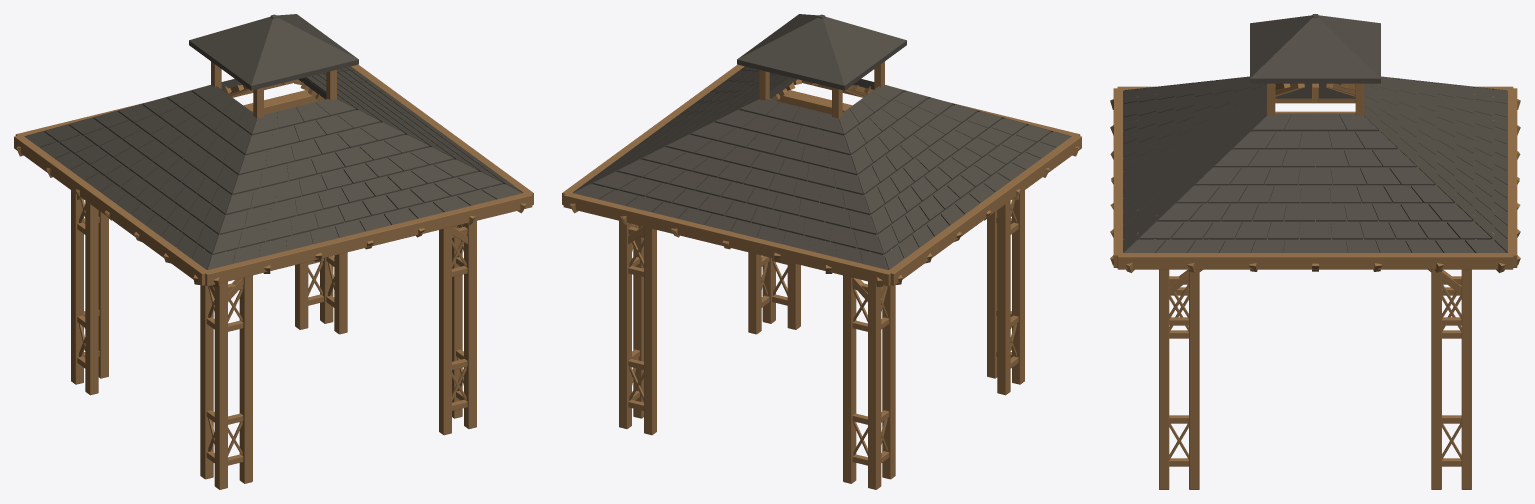
Rendered from A-NEW-20261026-GARDEN-GAZEBO-001_LOD0_R2.glb.
3 renders of one model, left to right at view 1: azimuth 30°, elevation 25°; view 2: azimuth 150°, elevation 25°; view 3: azimuth 270°, elevation 25°, orthographic. The views are drawn at different scales.
Visible parts, largest first — view 1: deep eave fascia.002, small cupola hip.002, deep eave fascia.001, small cupola hip.001, corner support post, corner support post.001, corner support post.007, corner support post.005, corner support post.006, corner support post.002, corner support post.003, main hipped roof panel.002 (+9 smaller); view 2: deep eave fascia, small cupola hip, deep eave fascia.001, small cupola hip.001, corner support post.003, corner support post.004, corner support post.010, corner support post.002, corner support post.009, corner support post.005, corner support post, main hipped roof panel (+9 smaller); view 3: deep eave fascia.003, small cupola hip.003, corner support post.006, corner support post.009, corner support post.008, corner support post.011, main hipped roof panel.003, main hipped roof panel, main hipped roof panel.002, small cupola hip, small cupola hip.002, deep eave fascia (+55 smaller).
Part boxes in pixels (x1=…): deep eave fascia.002: x1=205, y1=192, x2=532, y2=286; small cupola hip.002: x1=251, y1=17, x2=358, y2=90; deep eave fascia.001: x1=14, y1=135, x2=209, y2=285; small cupola hip.001: x1=189, y1=16, x2=272, y2=90; corner support post: x1=214, y1=281, x2=227, y2=489; corner support post.001: x1=239, y1=275, x2=252, y2=483; corner support post.007: x1=439, y1=227, x2=451, y2=435; corner support post.005: x1=85, y1=201, x2=98, y2=395; corner support post.006: x1=464, y1=221, x2=476, y2=428; corner support post.002: x1=200, y1=285, x2=213, y2=479; corner support post.003: x1=71, y1=190, x2=83, y2=384; main hipped roof panel.002: x1=212, y1=110, x2=503, y2=263; deep eave fascia: x1=563, y1=193, x2=892, y2=286; small cupola hip: x1=737, y1=17, x2=844, y2=90; deep eave fascia.001: x1=889, y1=134, x2=1081, y2=285; small cupola hip.001: x1=823, y1=16, x2=906, y2=90; corner support post.003: x1=868, y1=281, x2=881, y2=489; corner support post.004: x1=843, y1=275, x2=856, y2=483; corner support post.010: x1=644, y1=227, x2=656, y2=435; corner support post.002: x1=997, y1=201, x2=1010, y2=395; corner support post.009: x1=619, y1=221, x2=631, y2=428; corner support post.005: x1=882, y1=285, x2=895, y2=479; corner support post: x1=1012, y1=190, x2=1024, y2=384; main hipped roof panel: x1=592, y1=110, x2=883, y2=263; deep eave fascia.003: x1=1117, y1=253, x2=1513, y2=269; small cupola hip.003: x1=1250, y1=17, x2=1380, y2=83; corner support post.006: x1=1159, y1=269, x2=1169, y2=489; corner support post.009: x1=1461, y1=269, x2=1471, y2=489; corner support post.008: x1=1189, y1=269, x2=1199, y2=489; corner support post.011: x1=1431, y1=269, x2=1441, y2=489; main hipped roof panel.003: x1=1138, y1=114, x2=1492, y2=252; main hipped roof panel: x1=1379, y1=79, x2=1494, y2=239; main hipped roof panel.002: x1=1136, y1=79, x2=1251, y2=239; small cupola hip: x1=1318, y1=15, x2=1380, y2=77; small cupola hip.002: x1=1250, y1=15, x2=1312, y2=77; deep eave fascia: x1=1507, y1=88, x2=1517, y2=267.
Bounding box in the file's own units: 4.07 × 4.48 × 4.07.
